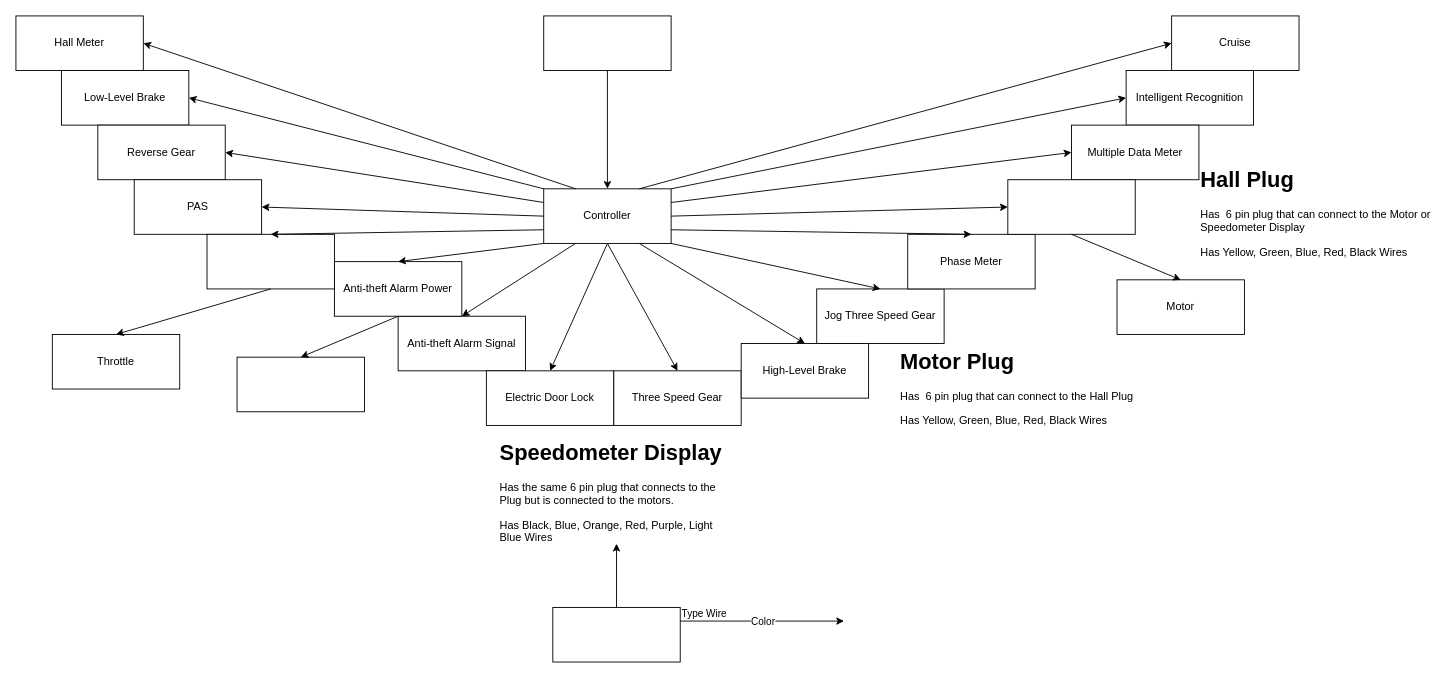
Some shapes in this 1451 by 678 pixel diagram are drawn without their labels. Here are the shapes that lost their labels. From the top down, the box of each, then its label:
(543, 15, 671, 71): Battery (48V/72V)
(1007, 179, 1135, 234): Hall Plug (6 Pin)
(206, 233, 334, 289): Throttle Handle
(236, 356, 364, 412): Key Switch
(552, 607, 680, 662): Speedometer Display
